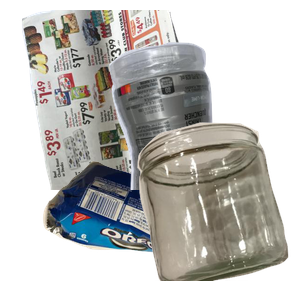glass: (135, 120, 300, 300)
paper: (19, 10, 223, 190)
plastic: (106, 40, 300, 220)
trash: (40, 158, 245, 300)
